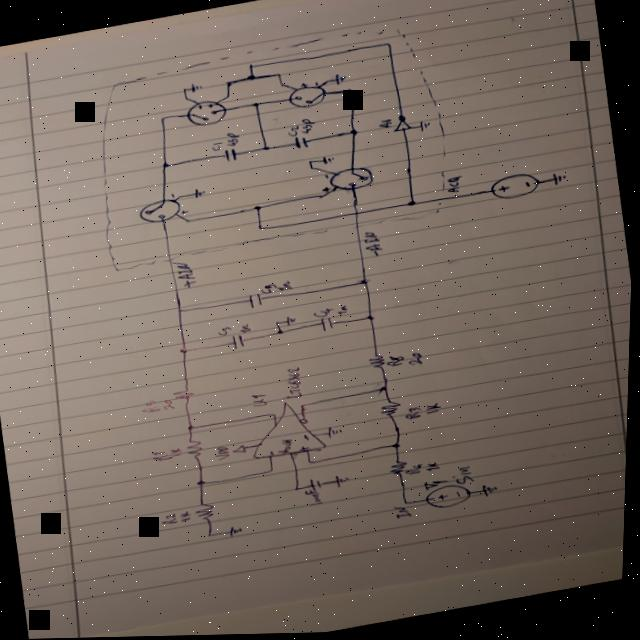capacitor: (247, 294, 266, 311), (231, 335, 248, 351), (222, 149, 238, 165), (310, 479, 326, 494), (292, 137, 308, 152), (320, 319, 334, 335)
crossover: (351, 213, 361, 219)
ground: (482, 486, 502, 501), (327, 427, 345, 442), (336, 475, 352, 491), (550, 175, 568, 189), (417, 121, 432, 136), (229, 526, 247, 538), (333, 74, 347, 89), (193, 188, 207, 201), (285, 317, 299, 329), (189, 83, 202, 95), (321, 157, 336, 167)
junction: (244, 75, 257, 84), (404, 202, 418, 210), (378, 388, 391, 396), (252, 206, 264, 214), (187, 426, 198, 434), (298, 403, 308, 411), (198, 481, 209, 488), (179, 349, 190, 356), (392, 445, 403, 452), (365, 317, 376, 324), (381, 43, 392, 50), (348, 131, 359, 138), (250, 103, 261, 110), (159, 164, 170, 171), (359, 281, 370, 288), (259, 147, 270, 154), (158, 117, 169, 124), (223, 82, 233, 89), (270, 413, 280, 420), (255, 227, 265, 233), (183, 220, 193, 226), (344, 90, 353, 96), (246, 65, 255, 71), (316, 195, 325, 201), (277, 332, 286, 337), (294, 489, 303, 494), (207, 535, 216, 540), (274, 75, 283, 80), (268, 470, 277, 475), (176, 310, 185, 315), (403, 503, 412, 508), (307, 462, 316, 467), (307, 161, 313, 166), (275, 322, 281, 327), (323, 81, 329, 86), (309, 168, 314, 173), (183, 98, 188, 103), (279, 85, 285, 89), (225, 96, 230, 100), (177, 196, 182, 200), (182, 89, 186, 93)
resistor: (195, 504, 218, 524), (380, 402, 404, 421), (185, 441, 205, 461), (389, 461, 410, 479), (368, 357, 388, 373), (173, 390, 196, 403)
source: (487, 173, 543, 205), (424, 484, 472, 514), (232, 446, 250, 457)
switch: (321, 163, 377, 198), (182, 96, 231, 132), (284, 80, 333, 114), (138, 198, 186, 229)
text: (170, 260, 198, 292), (283, 369, 306, 401), (362, 232, 385, 262), (443, 176, 464, 198), (306, 489, 326, 509), (141, 400, 163, 416), (424, 481, 451, 494), (385, 356, 408, 371), (298, 119, 317, 137), (456, 469, 475, 487), (250, 395, 271, 411), (395, 508, 415, 523), (404, 408, 424, 423), (151, 451, 174, 464), (223, 134, 241, 150), (407, 354, 426, 369), (408, 465, 427, 479), (312, 309, 336, 320), (216, 447, 232, 463), (425, 404, 444, 417), (162, 514, 181, 527), (279, 440, 295, 455), (377, 119, 394, 132), (285, 127, 301, 140), (260, 285, 277, 297), (277, 282, 294, 294), (163, 399, 177, 412), (217, 328, 234, 338), (336, 306, 350, 318), (209, 143, 224, 154), (426, 464, 442, 474), (181, 512, 194, 524), (240, 324, 253, 336), (171, 449, 184, 459), (302, 435, 313, 445), (300, 448, 311, 455), (179, 210, 190, 216), (270, 451, 277, 459), (195, 106, 204, 111), (320, 190, 329, 195), (322, 176, 331, 181), (298, 85, 306, 90), (311, 84, 318, 89), (169, 194, 174, 200), (207, 105, 213, 109)
